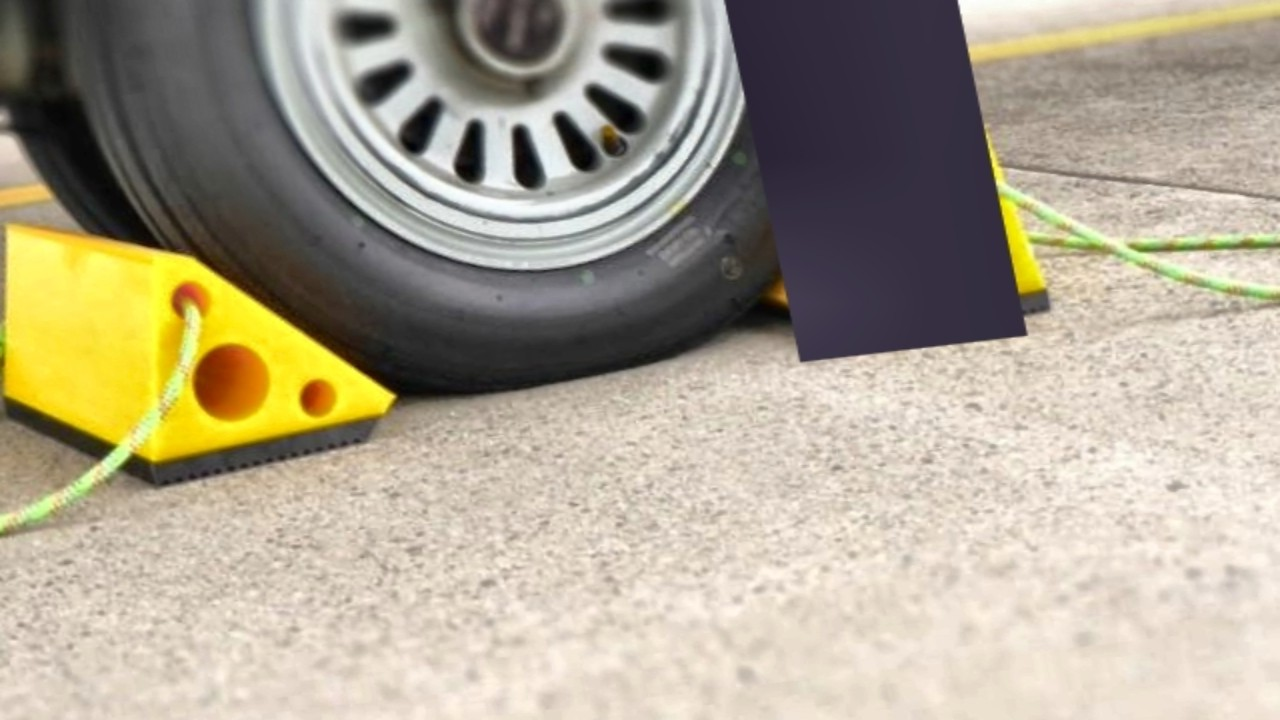chock: (0, 180, 414, 504), (718, 88, 1062, 355)
wheel: (11, 0, 928, 428)
